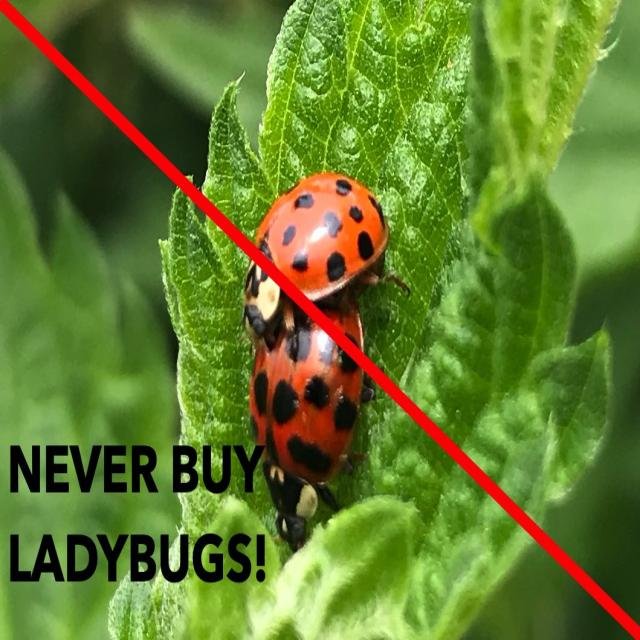ladybug: (249, 310, 373, 548), (244, 172, 409, 339)
